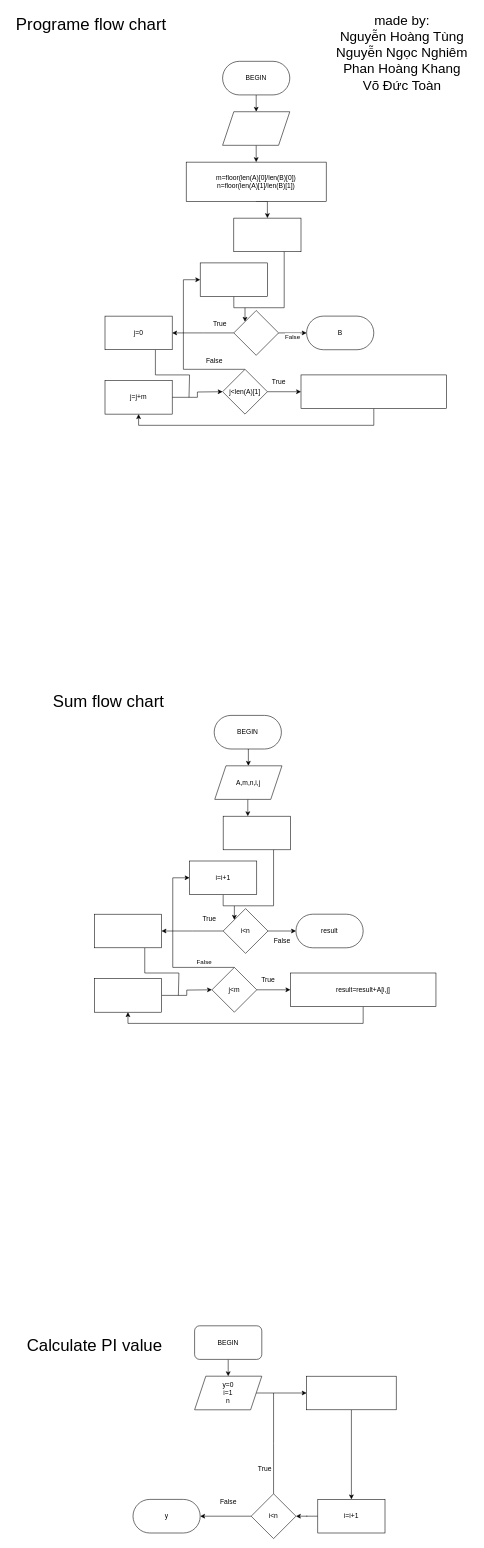
This 484x1548 diagram has some shape labels left out. Here are the shapes that lost their labels. From the top down, the centre of each, then its label:
At pixel 256 128: "A,B".
At pixel 267 235: "i=0".
At pixel 233 279: "i=i+n".
At pixel 256 332: "i<len(A)[0]".
At pixel 373 391: "B[floor(i/n),floor(j/m)]=sum/(m*n)".
At pixel 256 833: "i=i".
At pixel 128 931: "j=j".
At pixel 128 995: "j=j+1".
At pixel 351 1393: "y=y-((-1)**i)/(2*i-1)".
